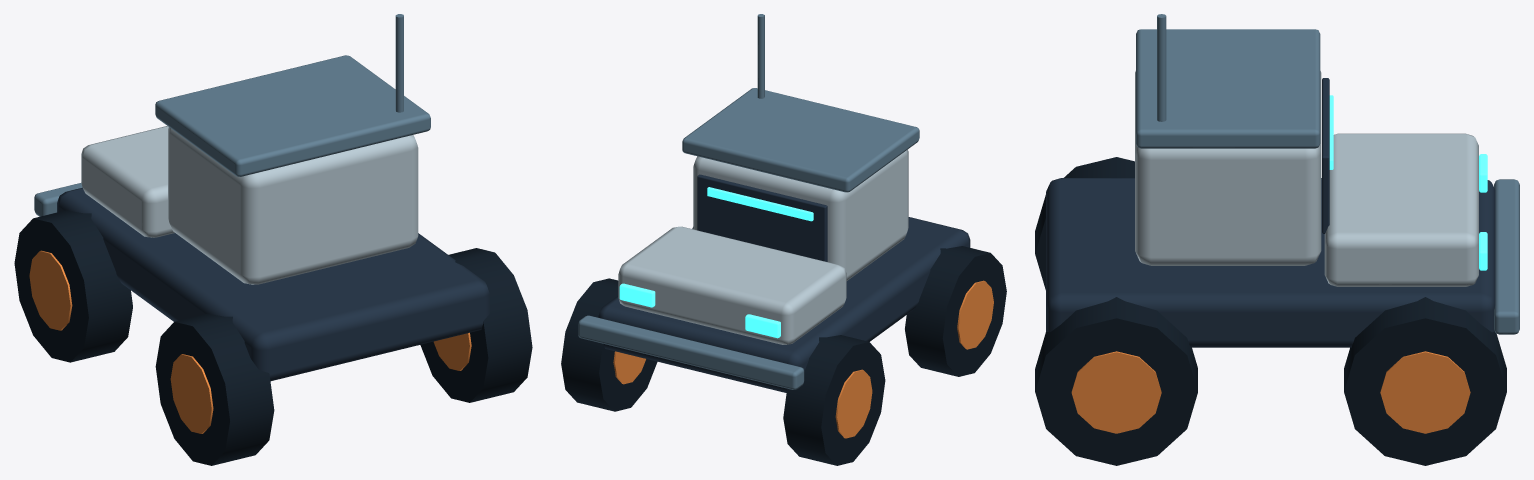
Rendered from exploration-rover.glb.
3 renders of one model, left to right at view 1: azimuth 30°, elevation 25°; view 2: azimuth 150°, elevation 25°; view 3: azimuth 270°, elevation 25°, orthographic. The views are drawn at different scales.
Parts seen in each view (by area): view 1: chassis, cabin, roof-rack, wheel--0.76-0.72, wheel--0.76--0.72, wheel-0.76-0.72, hood, hub--0.76--0.72, hub--0.76-0.72, hub-0.76-0.72, antenna, bumper; view 2: hood, roof-rack, chassis, cabin, wheel--0.76--0.72, wheel--0.76-0.72, windscreen, wheel-0.76--0.72, bumper, hub--0.76--0.72, hub--0.76-0.72, windscreen-band (+4 smaller); view 3: chassis, hood, cabin, roof-rack, wheel-0.76--0.72, wheel-0.76-0.72, hub-0.76-0.72, hub-0.76--0.72, bumper, wheel--0.76-0.72, windscreen, antenna.
Part boxes in pixels (x1,y1,x2,y2): chassis: [57, 187, 489, 381]; cabin: [168, 127, 418, 284]; roof-rack: [155, 55, 430, 176]; wheel--0.76-0.72: [155, 313, 274, 465]; wheel--0.76--0.72: [14, 210, 132, 362]; wheel-0.76-0.72: [420, 248, 532, 402]; hood: [81, 126, 174, 237]; hub--0.76--0.72: [29, 250, 72, 330]; hub--0.76-0.72: [170, 354, 213, 433]; hub-0.76-0.72: [433, 332, 471, 370]; antenna: [395, 14, 403, 112]; bumper: [34, 183, 82, 216]; hood: [618, 226, 846, 344]; roof-rack: [682, 88, 919, 192]; chassis: [598, 217, 970, 392]; cabin: [693, 149, 908, 280]; wheel--0.76--0.72: [783, 335, 885, 465]; wheel--0.76-0.72: [905, 246, 1006, 376]; windscreen: [697, 174, 827, 261]; wheel-0.76--0.72: [561, 278, 657, 411]; bumper: [578, 315, 804, 389]; hub--0.76--0.72: [835, 369, 872, 438]; hub--0.76-0.72: [957, 280, 993, 349]; windscreen-band: [707, 187, 813, 221]; chassis: [1046, 178, 1495, 347]; hood: [1324, 133, 1478, 286]; cabin: [1135, 71, 1321, 265]; roof-rack: [1136, 29, 1320, 148]; wheel-0.76--0.72: [1344, 297, 1506, 465]; wheel-0.76-0.72: [1035, 297, 1197, 465]; hub-0.76-0.72: [1071, 351, 1161, 433]; hub-0.76--0.72: [1380, 351, 1470, 433]; bumper: [1494, 179, 1519, 334]; wheel--0.76-0.72: [1035, 157, 1134, 289]; windscreen: [1322, 78, 1329, 233]; antenna: [1157, 14, 1166, 121].
Bounding box in the file's own units: 1.8 × 2.11 × 2.26.
